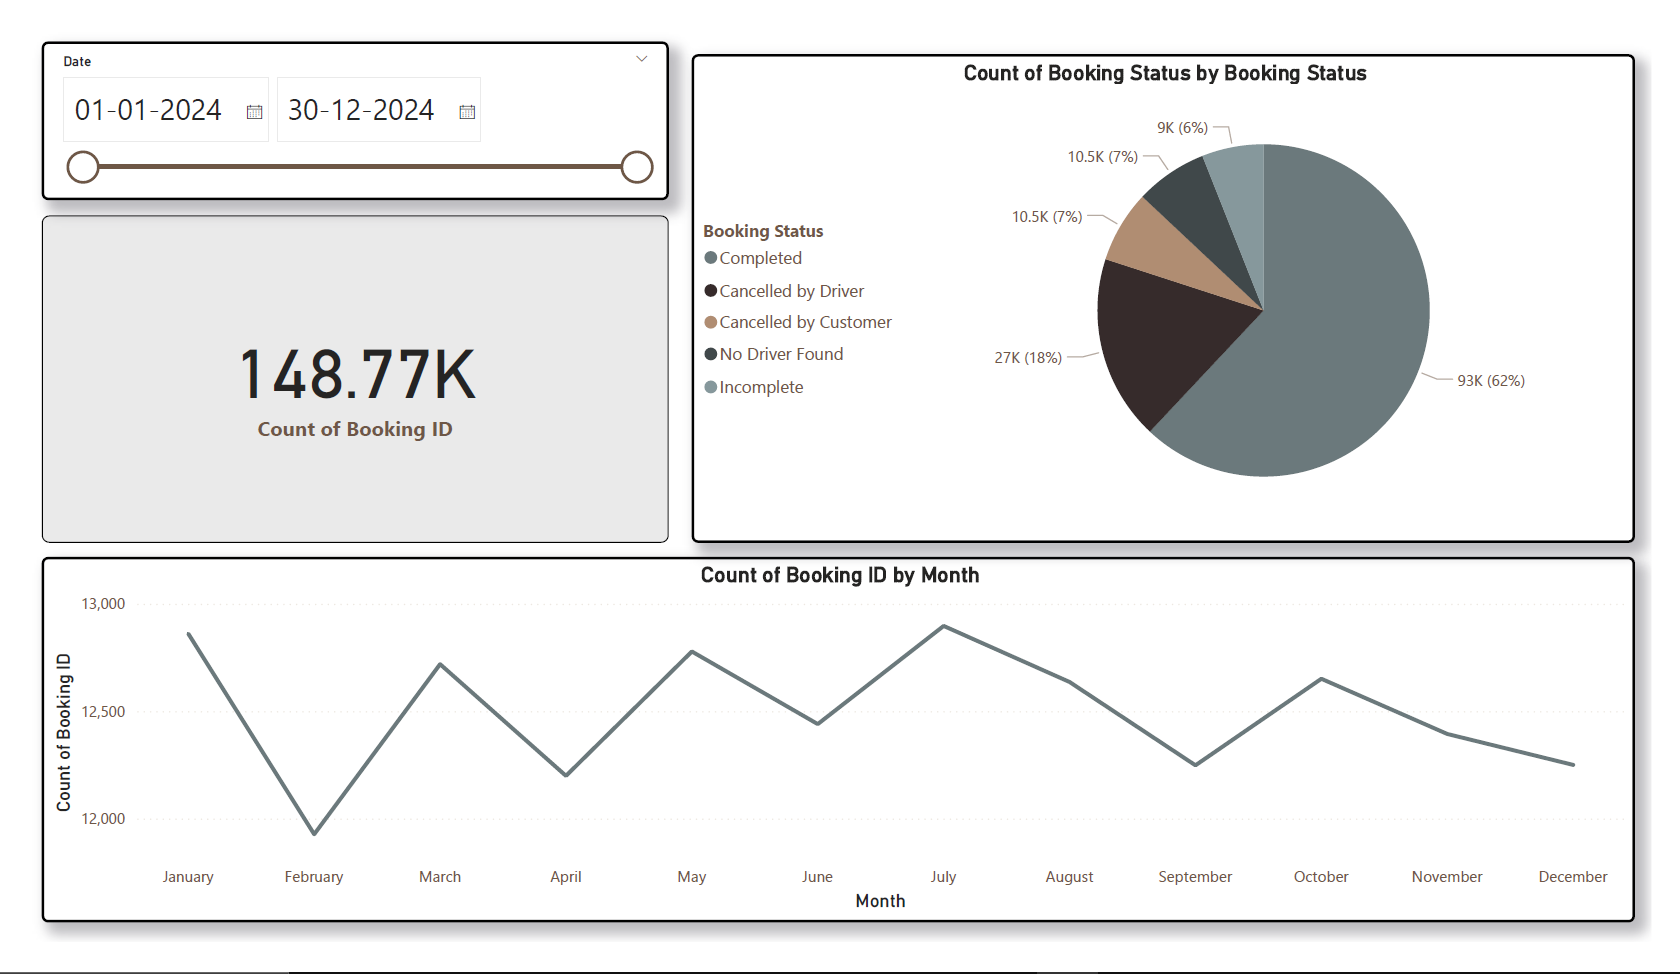

The dashboard page shown, as its layout file describes it:
{"tool":"powerbi","page":{"name":"Overview","canvas":[1280,720],"ordinal":1},"visuals":[{"type":"lineChart","fields":{"Category":["rideBookings.Date.Variation.Date Hierarchy.Month"],"Y":["CountNonNull(rideBookings.Booking ID)"]},"box":[12.3,417.2,1254.2,288.2],"z":0},{"type":"card","title":"Count of Distinct Booking ID","fields":{"Values":["Count(rideBookings.Booking ID)"]},"box":[12.3,148.2,494,258],"z":1000},{"type":"pieChart","fields":{"Category":["rideBookings.Booking Status"],"Y":["CountNonNull(rideBookings.Booking Status)"]},"box":[524.2,20.6,742.4,385.6],"z":2000},{"type":"slicer","fields":{"Values":["rideBookings.Date"]},"box":[12.3,11,494,124.9],"z":3000}]}

Visuals, with their boxes in screenshot pixels (x1, y1, x2, y2), scaled from the page's 1280x720 canvas onto the 1680x974 screenshot:
lineChart - rideBookings.Date.Variation.Date Hierarchy.Month x CountNonNull(rideBookings.Booking ID): <region>16, 564, 1662, 954</region>
"Count of Distinct Booking ID" card: <region>16, 200, 665, 549</region>
pieChart - rideBookings.Booking Status x CountNonNull(rideBookings.Booking Status): <region>688, 28, 1662, 549</region>
slicer - rideBookings.Date: <region>16, 15, 665, 184</region>
